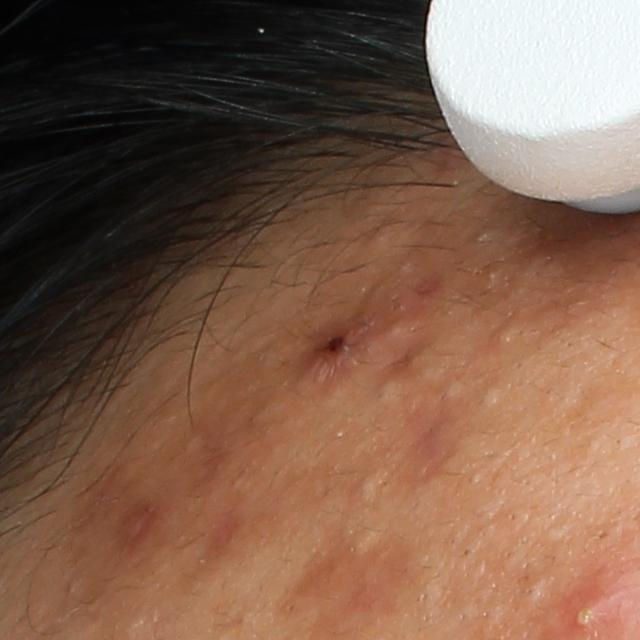comedo: (490, 324, 519, 350), (519, 577, 545, 604), (356, 477, 377, 504), (481, 386, 501, 410), (593, 530, 610, 542)
papule: (306, 330, 363, 380)
pustule: (562, 589, 612, 640)
